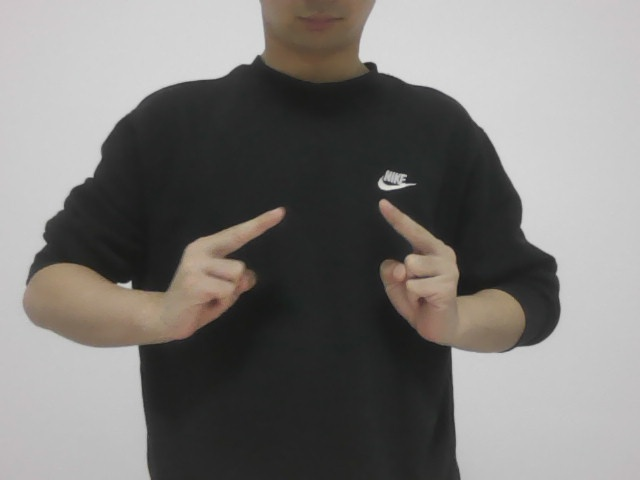know: (161, 199, 471, 353)
